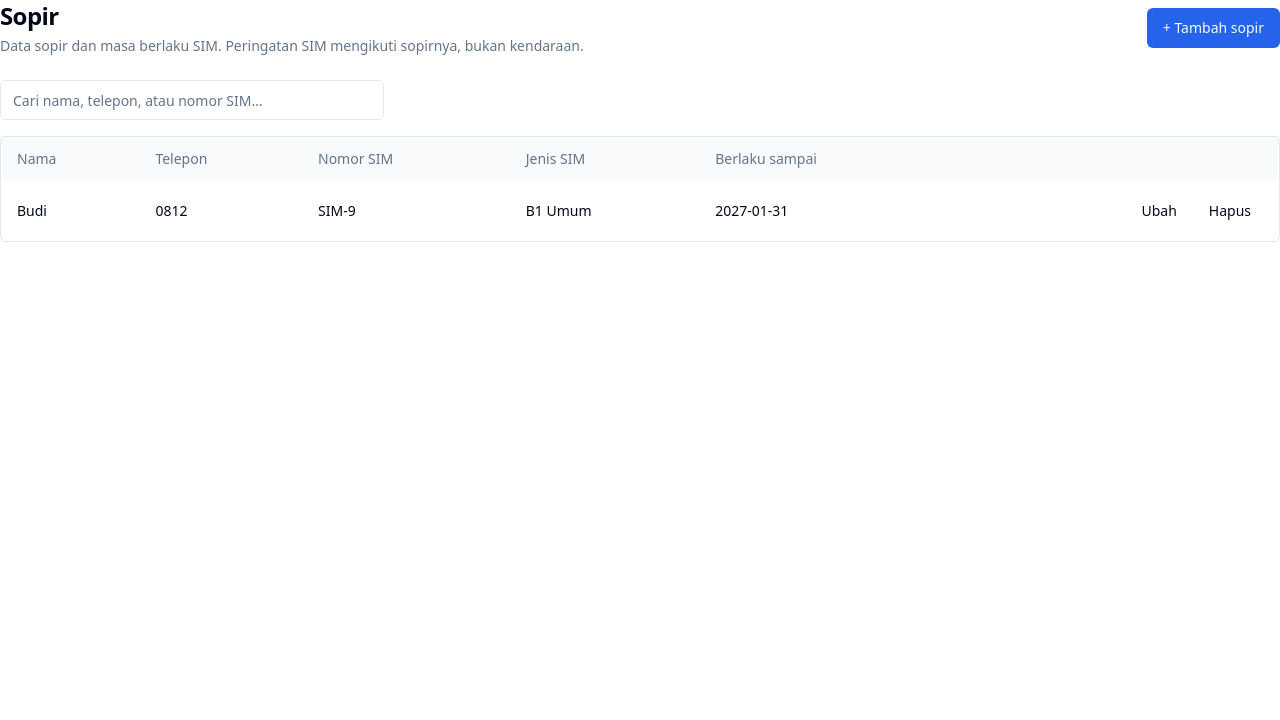
it: FleetDriversPage › delete › surfaces the backend refusal when a delete is rejected
Click the button "Hapus" at (1230, 211), box 1197,193 -> 1263,229
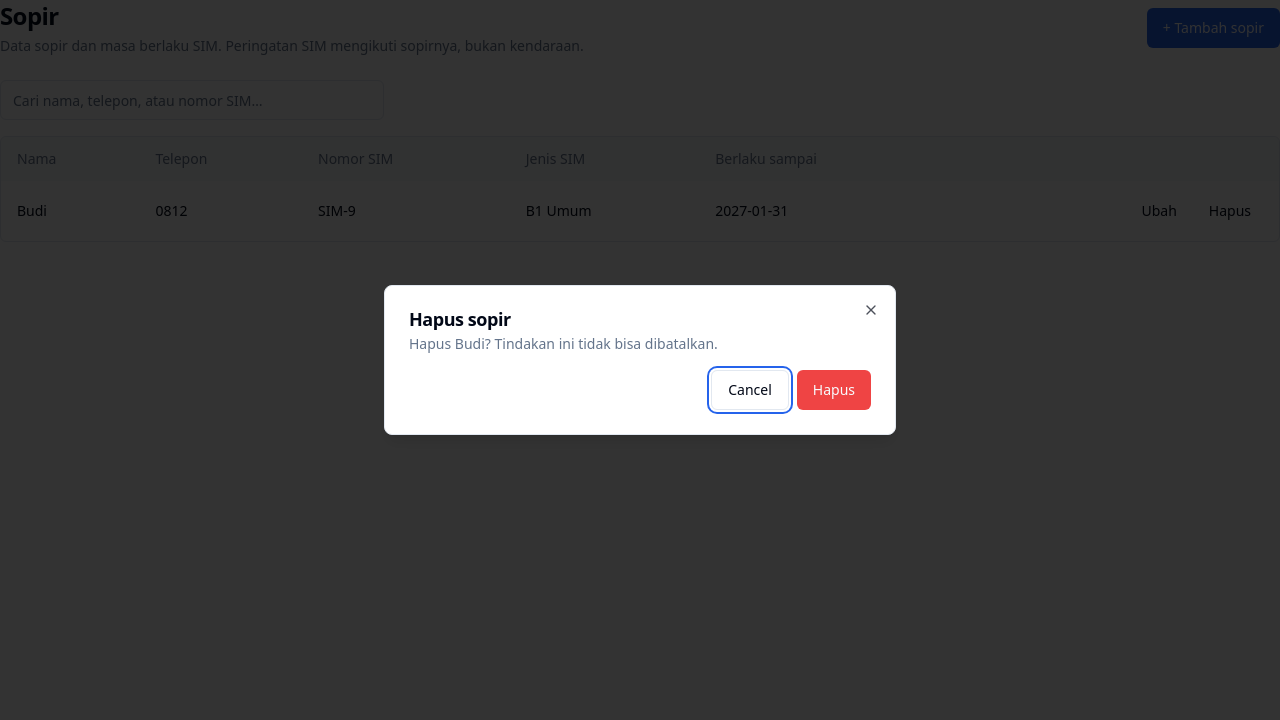
Click the button "Hapus" at (834, 390), box 797,370 -> 871,410
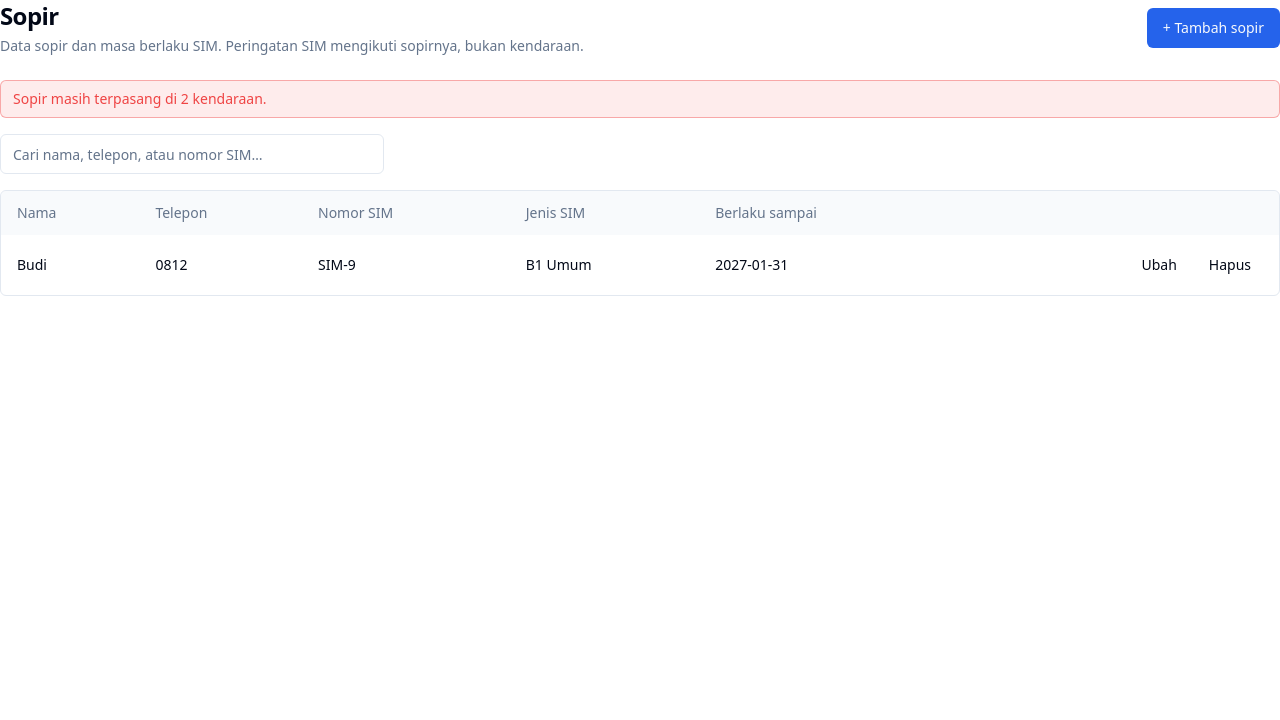
expect the text "Sopir masih terpasang di 2 kendaraan." is shown: met, box 0,80 -> 1279,118
